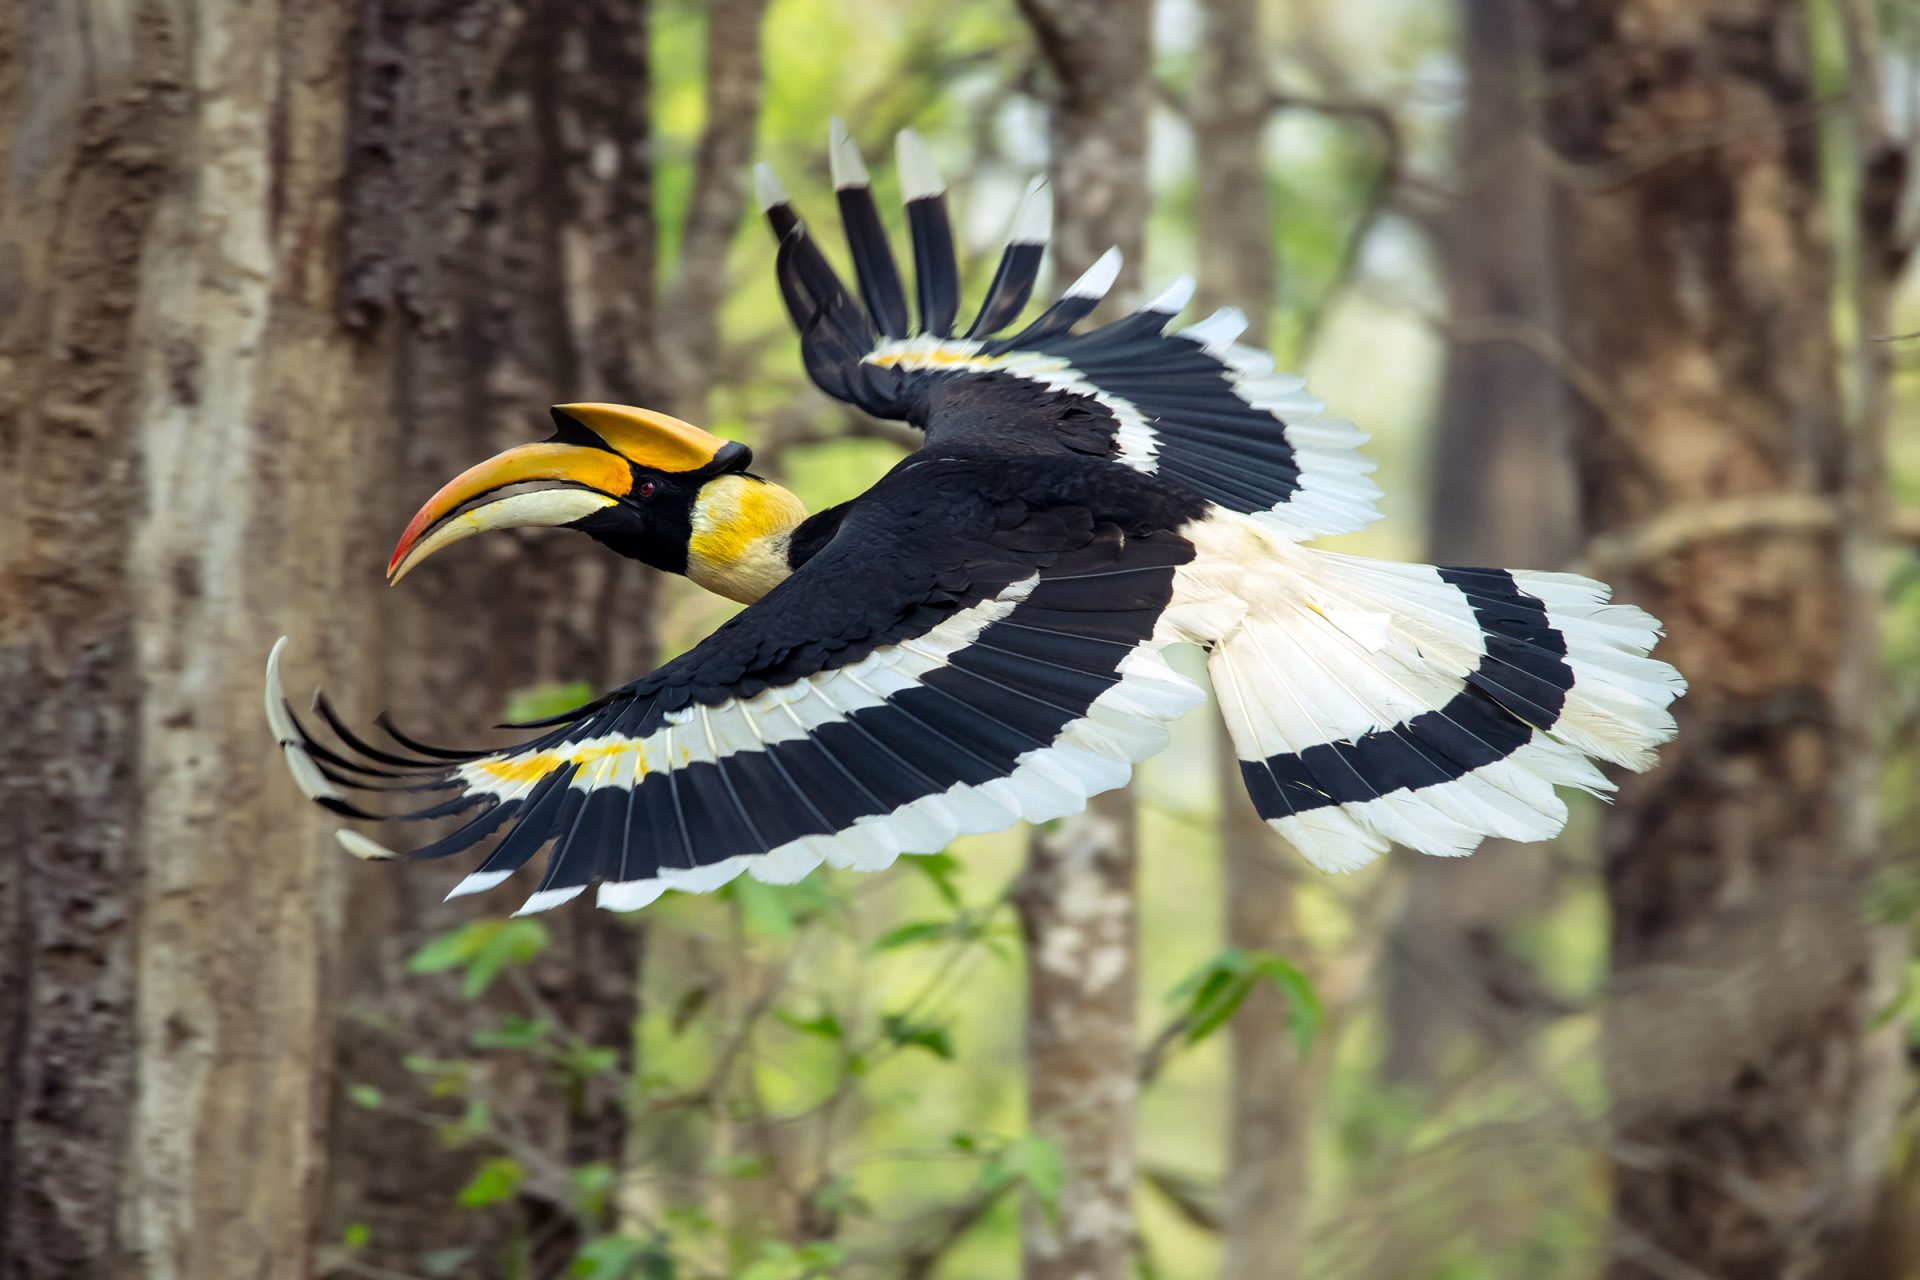bird: (237, 131, 1703, 963)
